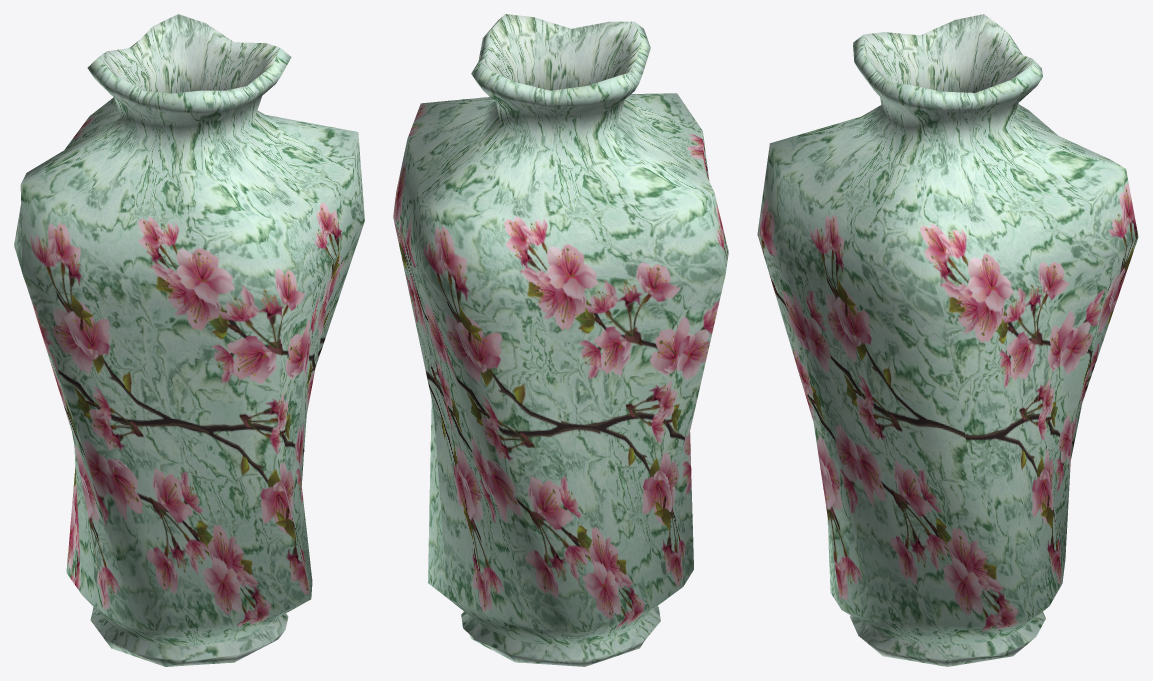
Rendered from JVase_43.fbx.
3 renders of one model, left to right at view 1: azimuth 30°, elevation 25°; view 2: azimuth 150°, elevation 25°; view 3: azimuth 270°, elevation 25°, orthographic.
Visible parts, largest first — view 1: JVase_43; view 2: JVase_43; view 3: JVase_43.
Boxes of the visible parts, <box> form: JVase_43: <box>14,14,364,666</box>; JVase_43: <box>393,14,728,666</box>; JVase_43: <box>757,14,1138,666</box>.
Bounding box in the file's own units: 52.59 × 88.19 × 52.6.
